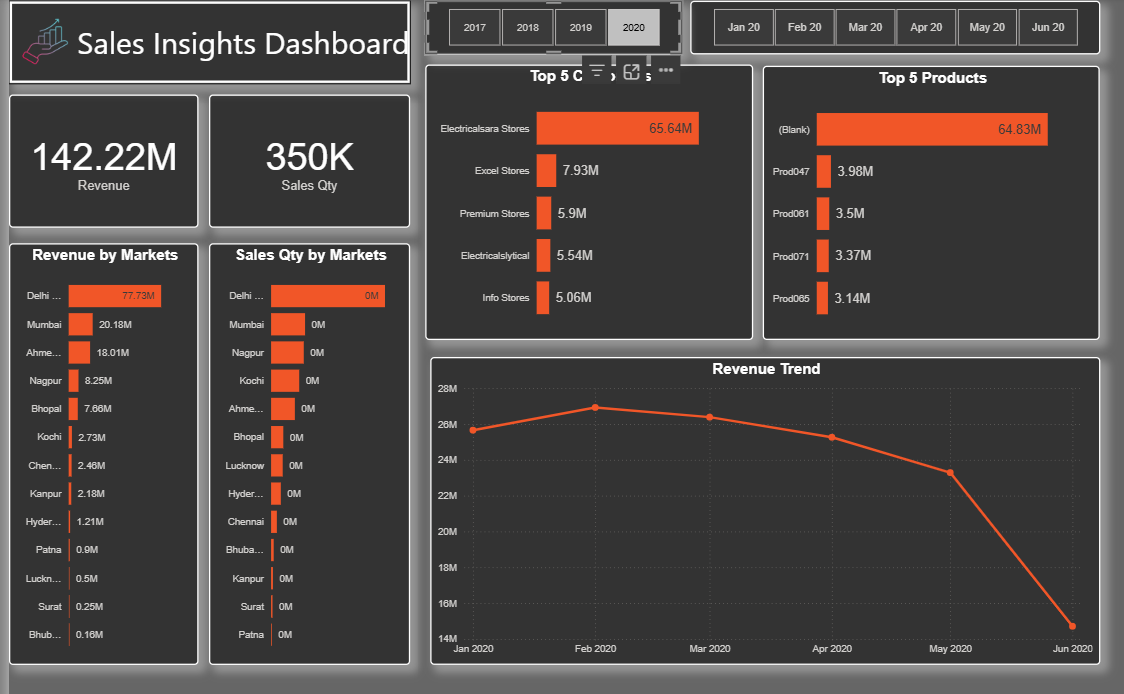

This screenshot's page, from the dashboard's own definition file:
{"tool":"powerbi","page":{"name":"Page 1","canvas":[1850,1000],"ordinal":0},"visuals":[{"type":"card","fields":{"Values":["BaseMeasures (2).Revenue"]},"box":[0,120.2,234.7,165.1],"z":0},{"type":"card","fields":{"Values":["BaseMeasures (2).Sales Qty"]},"box":[247.7,120.2,249.1,165.1],"z":1000},{"type":"barChart","title":"Revenue by Markets","fields":{"Y":["BaseMeasures (2).Revenue"],"Category":["sales markets.markets_name"]},"box":[0,304.2,234.7,521.5],"z":2000},{"type":"barChart","title":"Sales Qty by Markets","fields":{"Y":["BaseMeasures (2).Sales Qty"],"Category":["sales markets.markets_name"]},"box":[247.7,304.2,249.1,521.5],"z":3000},{"type":"slicer","fields":{"Values":["sales date.year"]},"box":[514.2,4.3,317.2,66.6],"z":4000},{"type":"slicer","fields":{"Values":["sales date.cy_date"]},"box":[843.1,4.3,507,66.6],"z":5000},{"type":"barChart","title":"Top 5 Customers","fields":{"Y":["BaseMeasures (2).Revenue"],"Category":["sales customers.custmer_name"]},"box":[514.2,84,405.6,340.4],"z":6000},{"type":"barChart","title":"Top 5 Products","fields":{"Y":["BaseMeasures (2).Revenue"],"Category":["sales products.product_code"]},"box":[932.9,85.5,417.2,339],"z":7000},{"type":"lineChart","title":"Revenue Trend","fields":{"Y":["BaseMeasures (2).Revenue"],"Category":["sales date.cy_date"]},"box":[521.5,444.7,828.6,381],"z":8000},{"type":"shape","box":[0,4.3,496.8,102.8],"z":8001},{"type":"image","box":[11.6,17.4,68.1,76.8],"z":8002}]}

Visuals, with their boxes on the page's 1850x1000 design canvas (x1, y1, x2, y2). These are canvas units, not pixel positions in the 1124x694 screenshot, which may show the page scaled, cropped or inside an application window:
card - BaseMeasures (2).Revenue: pyautogui.locateOnScreen(0, 120, 235, 285)
card - BaseMeasures (2).Sales Qty: pyautogui.locateOnScreen(248, 120, 497, 285)
"Revenue by Markets" barChart: pyautogui.locateOnScreen(0, 304, 235, 826)
"Sales Qty by Markets" barChart: pyautogui.locateOnScreen(248, 304, 497, 826)
slicer - sales date.year: pyautogui.locateOnScreen(514, 4, 831, 71)
slicer - sales date.cy_date: pyautogui.locateOnScreen(843, 4, 1350, 71)
"Top 5 Customers" barChart: pyautogui.locateOnScreen(514, 84, 920, 424)
"Top 5 Products" barChart: pyautogui.locateOnScreen(933, 86, 1350, 424)
"Revenue Trend" lineChart: pyautogui.locateOnScreen(522, 445, 1350, 826)
shape: pyautogui.locateOnScreen(0, 4, 497, 107)
image: pyautogui.locateOnScreen(12, 17, 80, 94)
